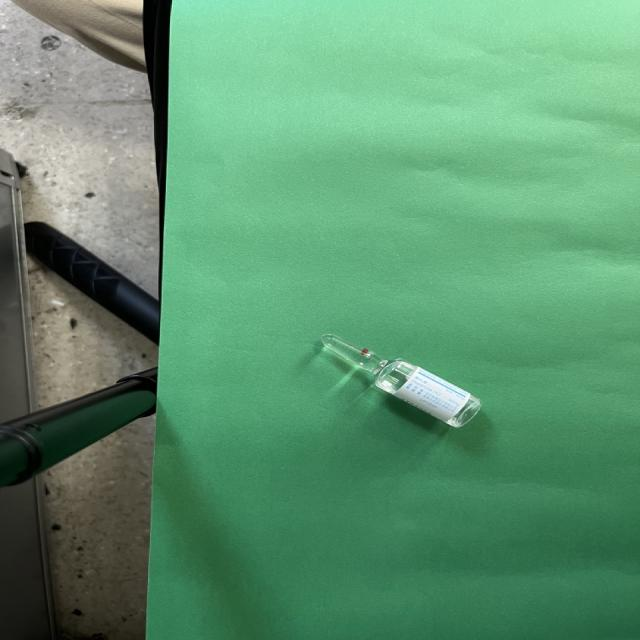Ampoules: (321, 334, 483, 428)
